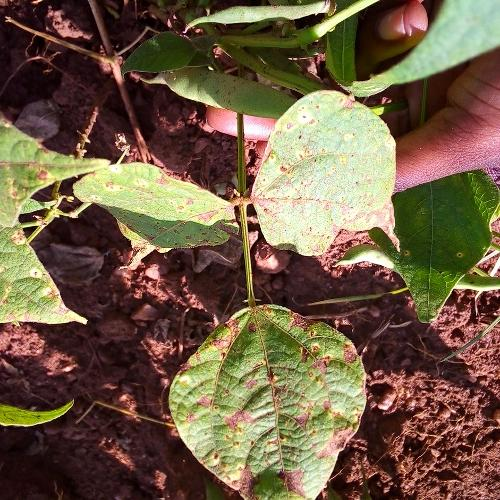hawar: (271, 118, 388, 224), (188, 378, 276, 452), (286, 392, 366, 461), (226, 453, 316, 500), (196, 311, 256, 371)
